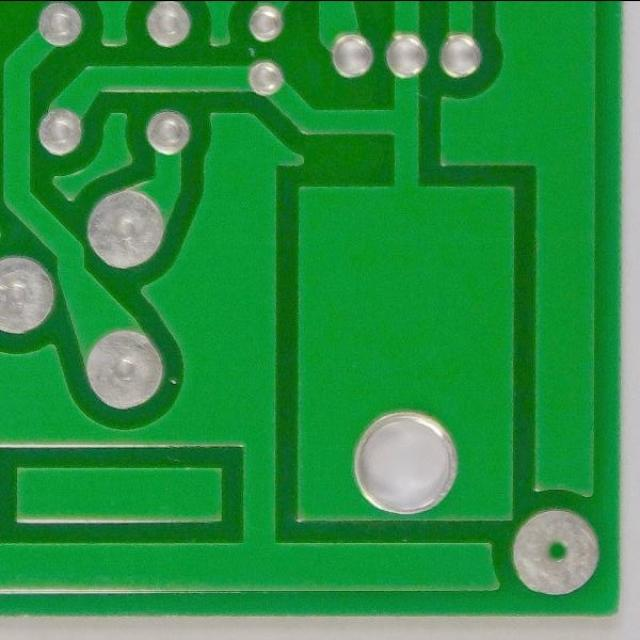Missing_Hole: (499, 500, 611, 606)
